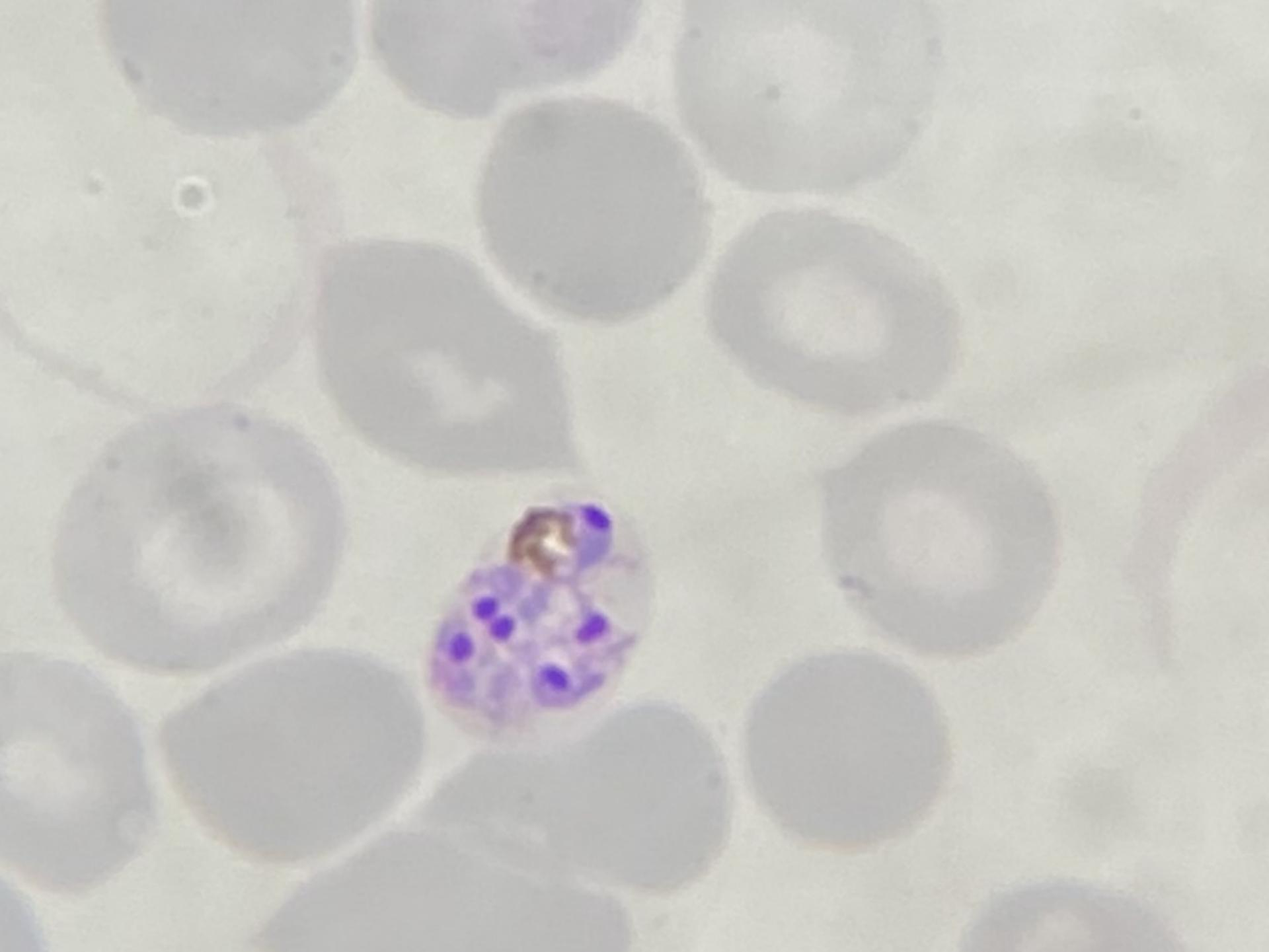Infected: (423, 494, 654, 735)
Uninfected: (55, 408, 350, 667), (313, 232, 595, 482), (436, 698, 726, 908), (156, 646, 423, 859), (822, 421, 1056, 654), (476, 98, 708, 328), (674, 0, 937, 198), (705, 208, 965, 406), (745, 653, 952, 857), (0, 650, 153, 896)
